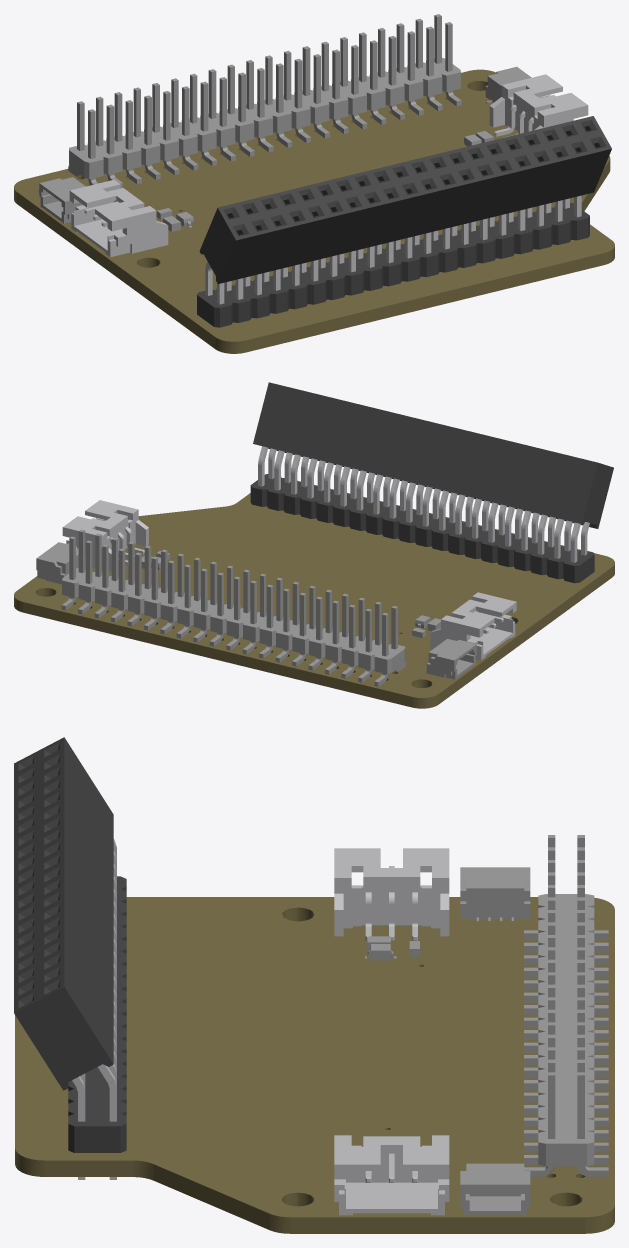
The model's file is ada-4862.glb.
The picture shows the model from 3 angles, top to bottom: view 1: azimuth 30°, elevation 25°; view 2: azimuth 150°, elevation 25°; view 3: azimuth 270°, elevation 25°; orthographic projection. The views are drawn at different scales.
Visible parts, largest first — view 1: 0.08333333333333333_0.08333333333333333_0.08333333333333333_, 0.16666666666666666_0.16666666666666666_0.08333333333333333_, 0.3333333333333333_0.3333333333333333_0.3333333333333333_0, 0.5833333333333334_0.5833333333333334_0.5833333333333334_0.8; view 2: 0.16666666666666666_0.16666666666666666_0.08333333333333333_, 0.08333333333333333_0.08333333333333333_0.08333333333333333_, 0.3333333333333333_0.3333333333333333_0.3333333333333333_0, 0.5833333333333334_0.5833333333333334_0.5833333333333334_0.8; view 3: 0.16666666666666666_0.16666666666666666_0.08333333333333333_, 0.08333333333333333_0.08333333333333333_0.08333333333333333_, 0.3333333333333333_0.3333333333333333_0.3333333333333333_0, 0.5833333333333334_0.5833333333333334_0.5833333333333334_0.8.
Boxes of the visible parts, x1=… form: 0.08333333333333333_0.08333333333333333_0.08333333333333333_: x1=197, y1=116, x2=611, y2=327; 0.16666666666666666_0.16666666666666666_0.08333333333333333_: x1=14, y1=69, x2=614, y2=353; 0.3333333333333333_0.3333333333333333_0.3333333333333333_0: x1=39, y1=14, x2=531, y2=231; 0.5833333333333334_0.5833333333333334_0.5833333333333334_0.8: x1=69, y1=74, x2=588, y2=304; 0.16666666666666666_0.16666666666666666_0.08333333333333333_: x1=14, y1=478, x2=614, y2=708; 0.08333333333333333_0.08333333333333333_0.08333333333333333_: x1=250, y1=382, x2=613, y2=583; 0.3333333333333333_0.3333333333333333_0.3333333333333333_0: x1=36, y1=529, x2=476, y2=686; 0.5833333333333334_0.5833333333333334_0.5833333333333334_0.8: x1=62, y1=446, x2=589, y2=660; 0.16666666666666666_0.16666666666666666_0.08333333333333333_: x1=15, y1=897, x2=614, y2=1233; 0.08333333333333333_0.08333333333333333_0.08333333333333333_: x1=14, y1=737, x2=126, y2=1152; 0.3333333333333333_0.3333333333333333_0.3333333333333333_0: x1=365, y1=835, x2=608, y2=1215; 0.5833333333333334_0.5833333333333334_0.5833333333333334_0.8: x1=72, y1=839, x2=449, y2=1215.
Size of the model in its own units: 6.52 by 1.88 by 5.17.
